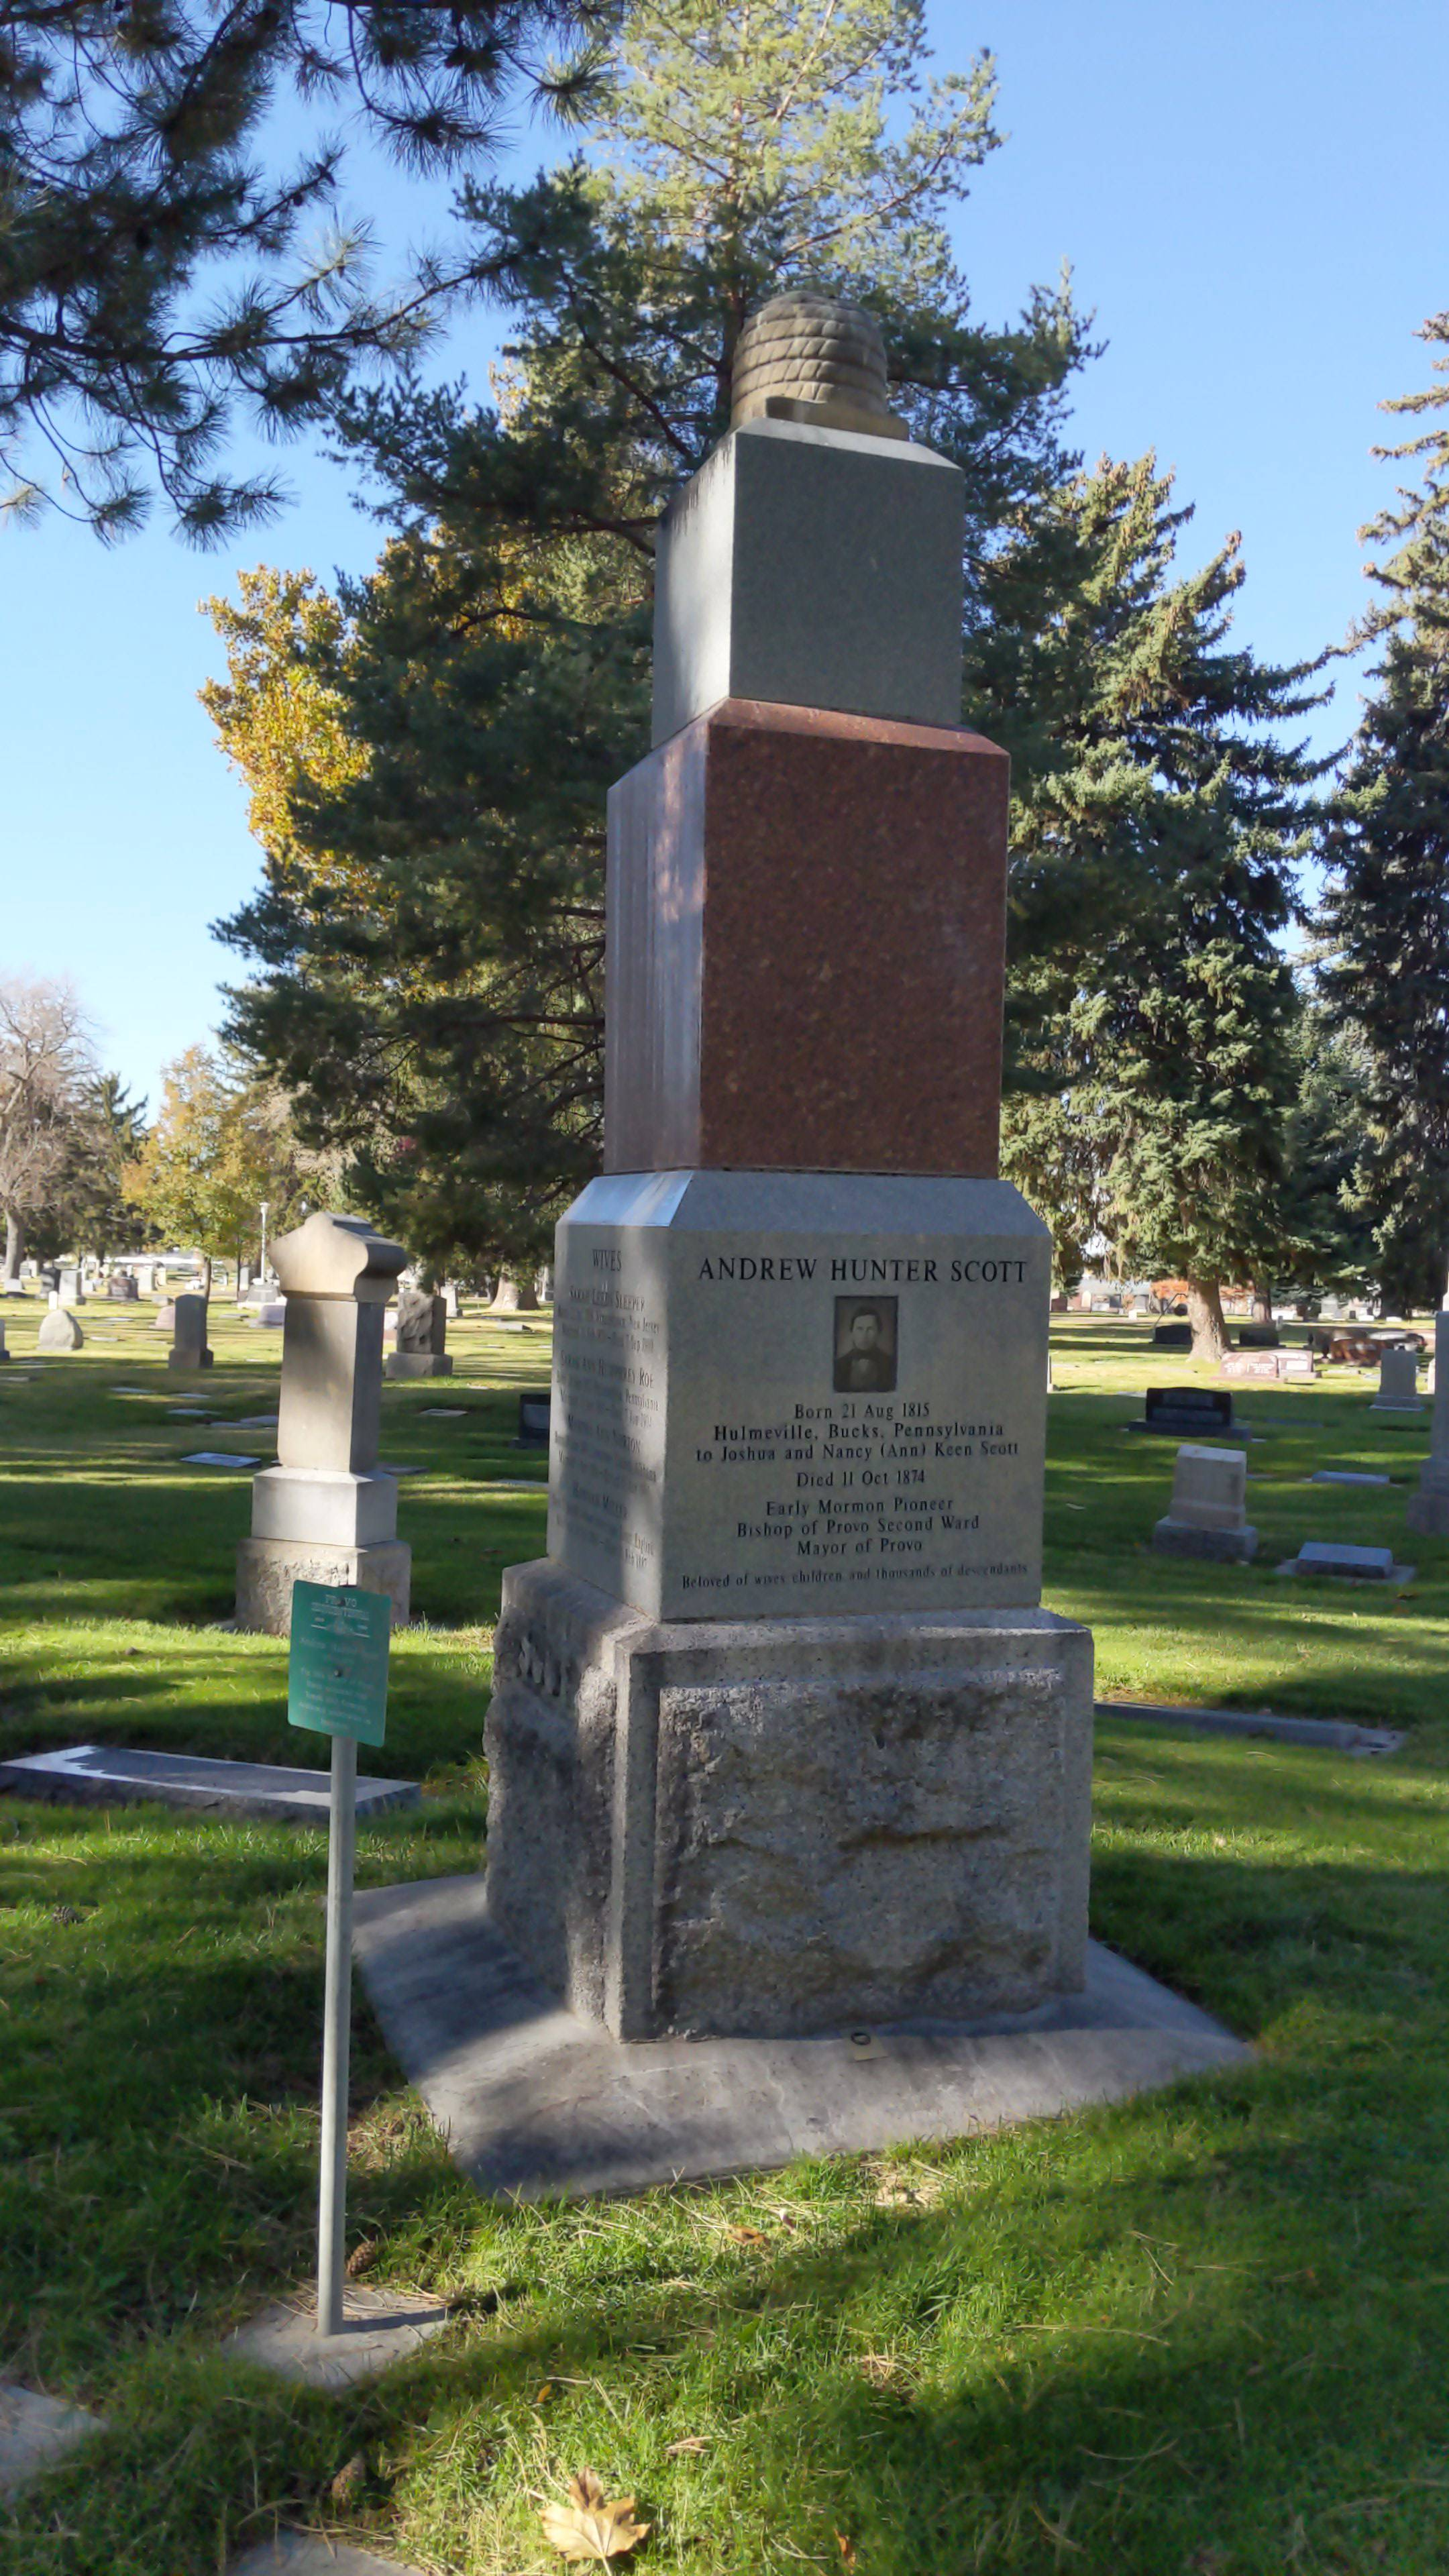obelisk: (497, 311, 1085, 2051)
